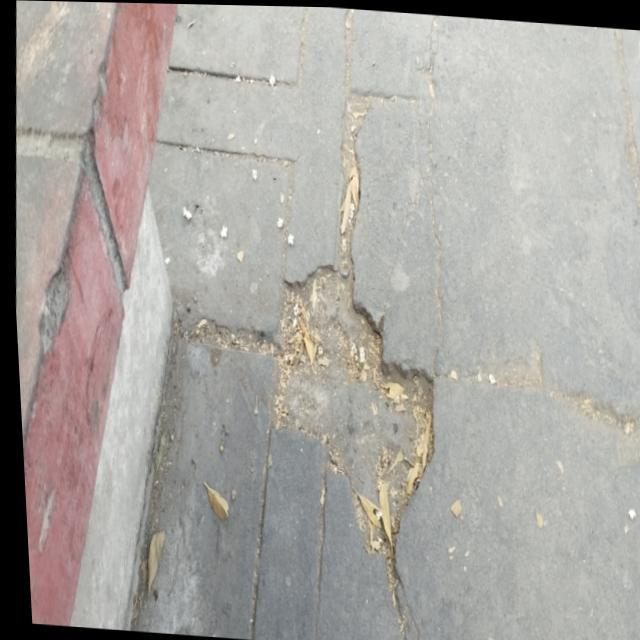hole: (250, 252, 446, 570)
